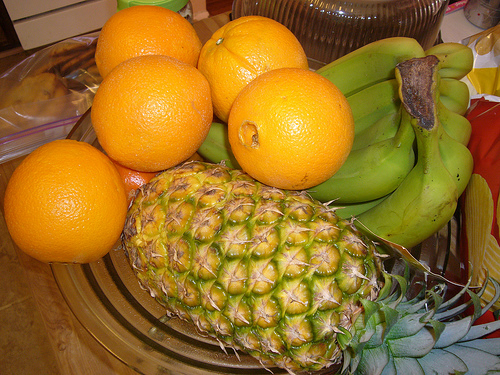pineapple: (120, 156, 499, 374)
